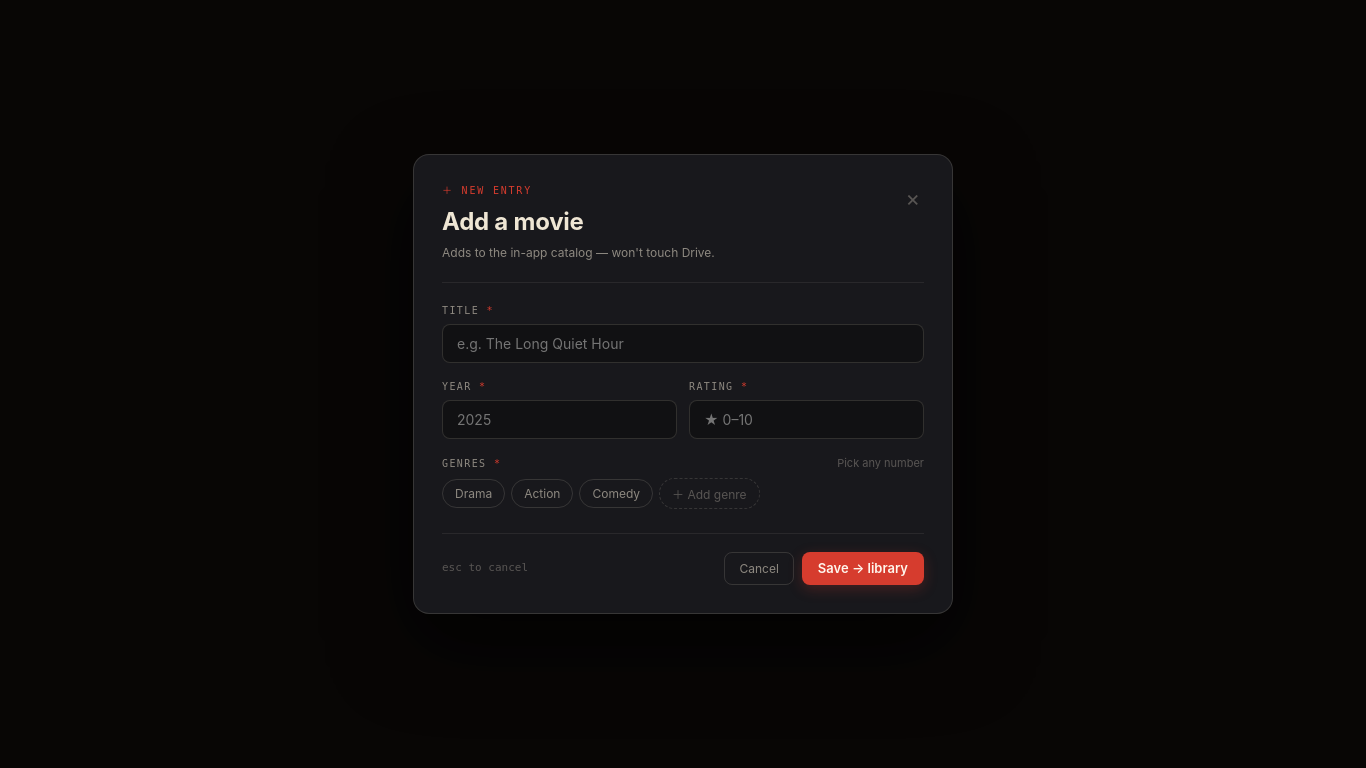
Test: AddMovieModal › shows a year error when year is below 1888
Type "Test" into the field with placeholder "e.g. The Long Quiet Hour".
click(683, 344); type("Test")  # box [442,324,924,363]
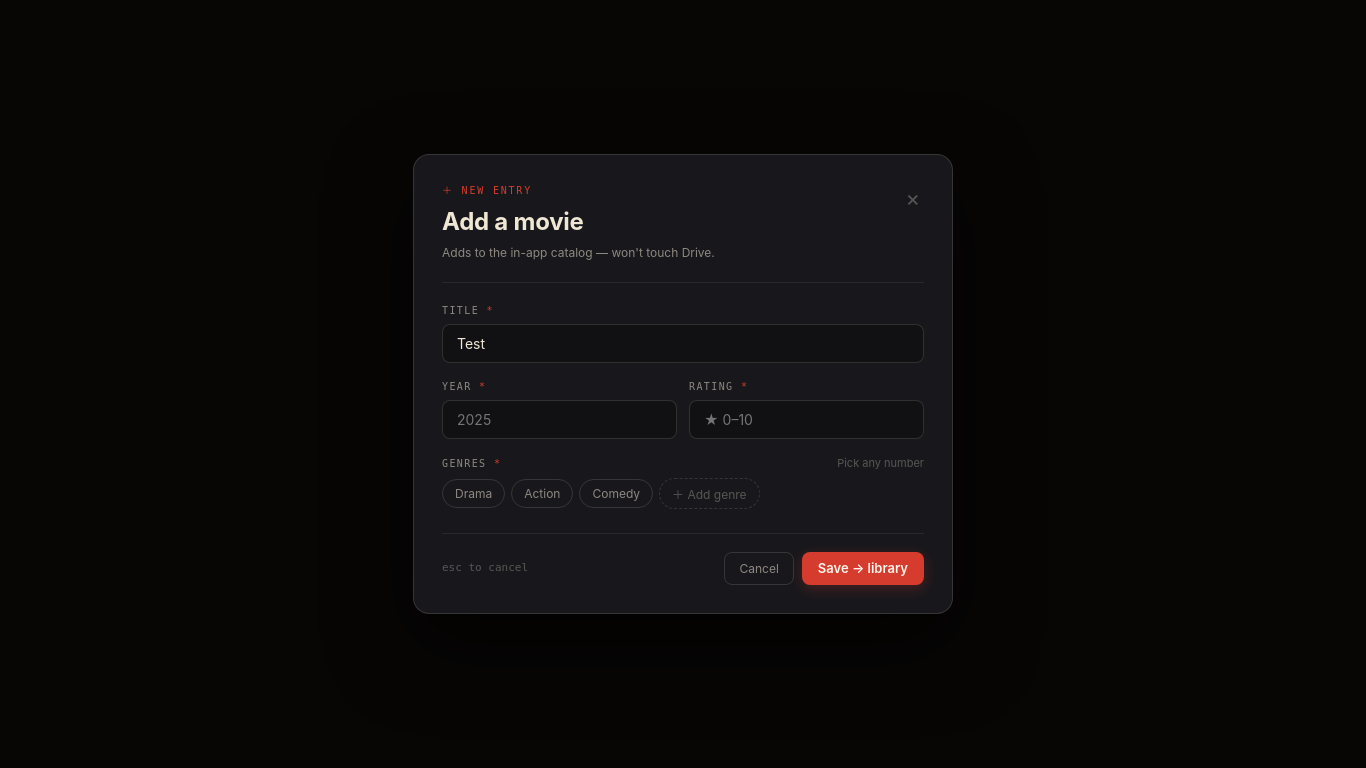
Type "1800" into the number field with placeholder "2025".
click(560, 420); type("1800")  # box [442,400,677,439]
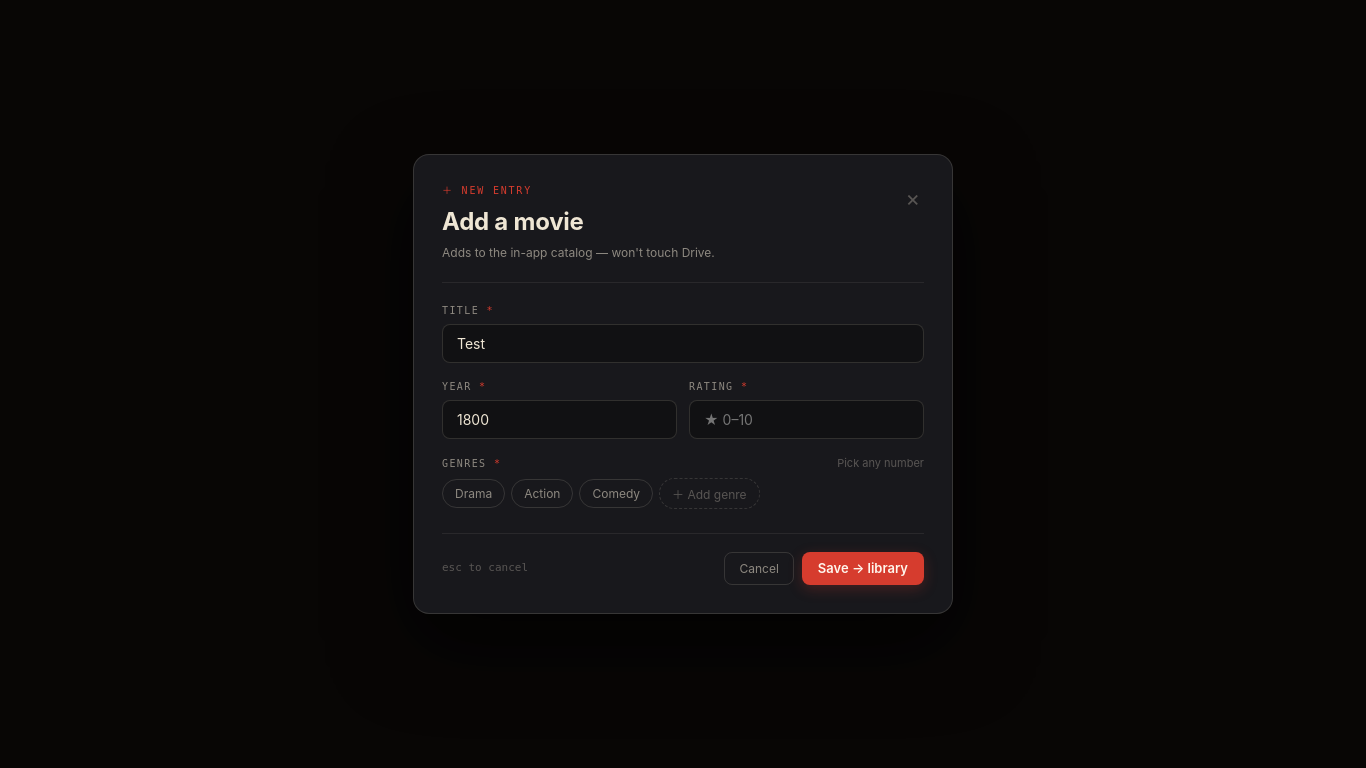
Click the button "Save → library".
click(863, 568)  # box [802,552,924,585]
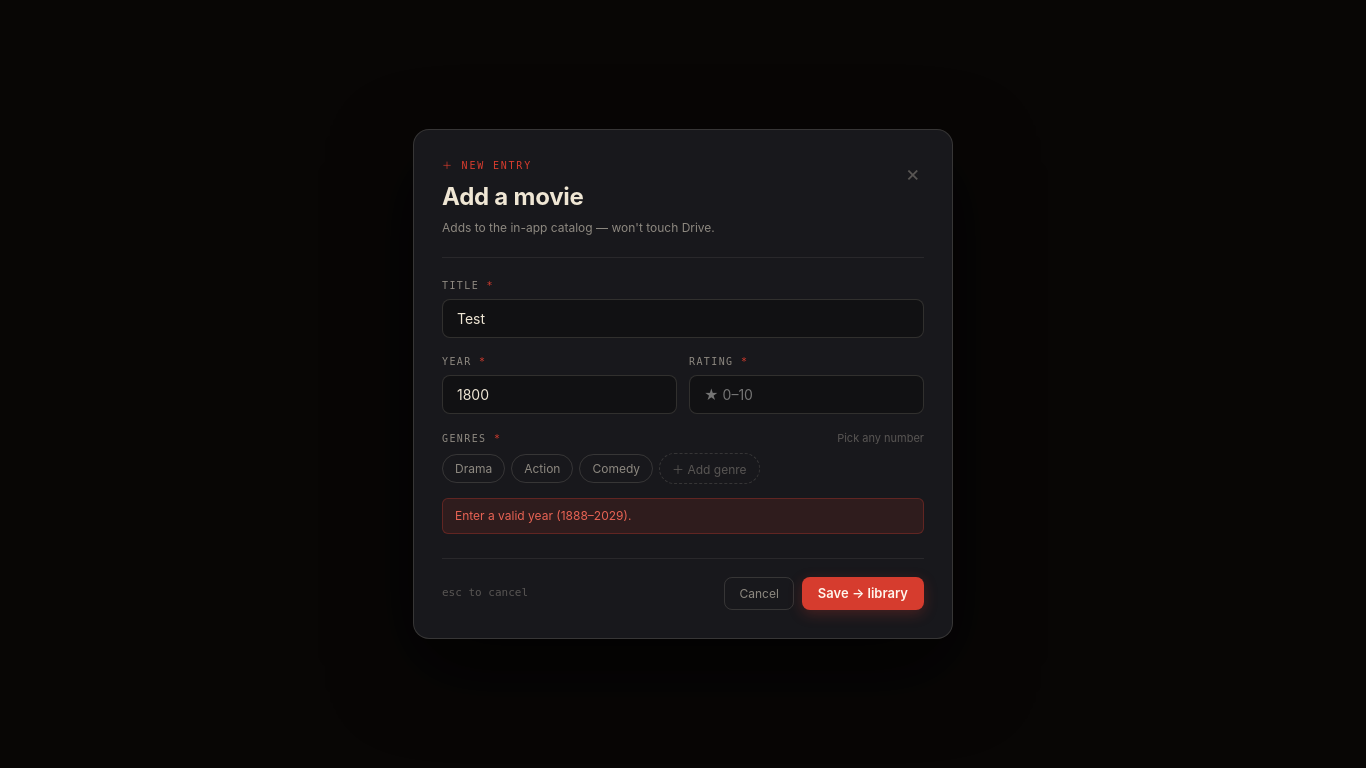
Check: the text "Enter a valid year (1888–2029)." is shown, box [442,498,924,534]
